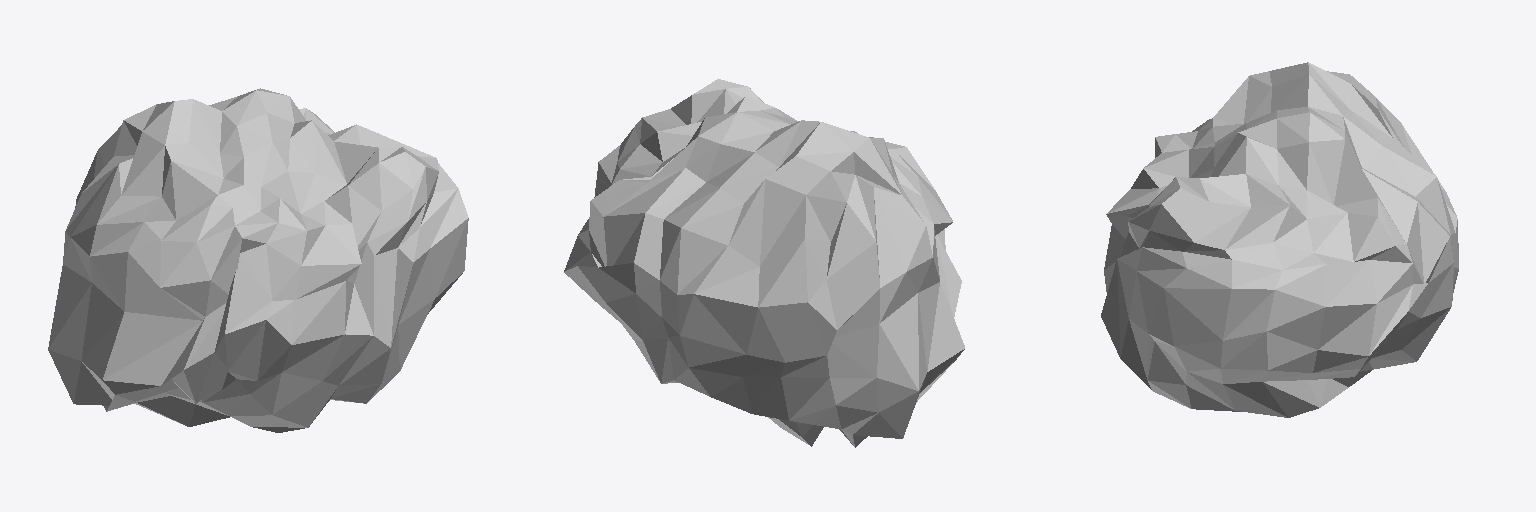
Rendered from rock3.obj.
3 views of the same model, side by side, from view 1: azimuth 30°, elevation 25°; view 2: azimuth 150°, elevation 25°; view 3: azimuth 270°, elevation 25° (orthographic).
Parts seen in each view (by area): view 1: pCube1; view 2: pCube1; view 3: pCube1.
Boxes of the visible parts, <box> form: pCube1: <box>48,88,468,432</box>; pCube1: <box>564,79,964,447</box>; pCube1: <box>1101,62,1458,417</box>.
Size of the model in its own units: 96.74 by 82.95 by 83.7.